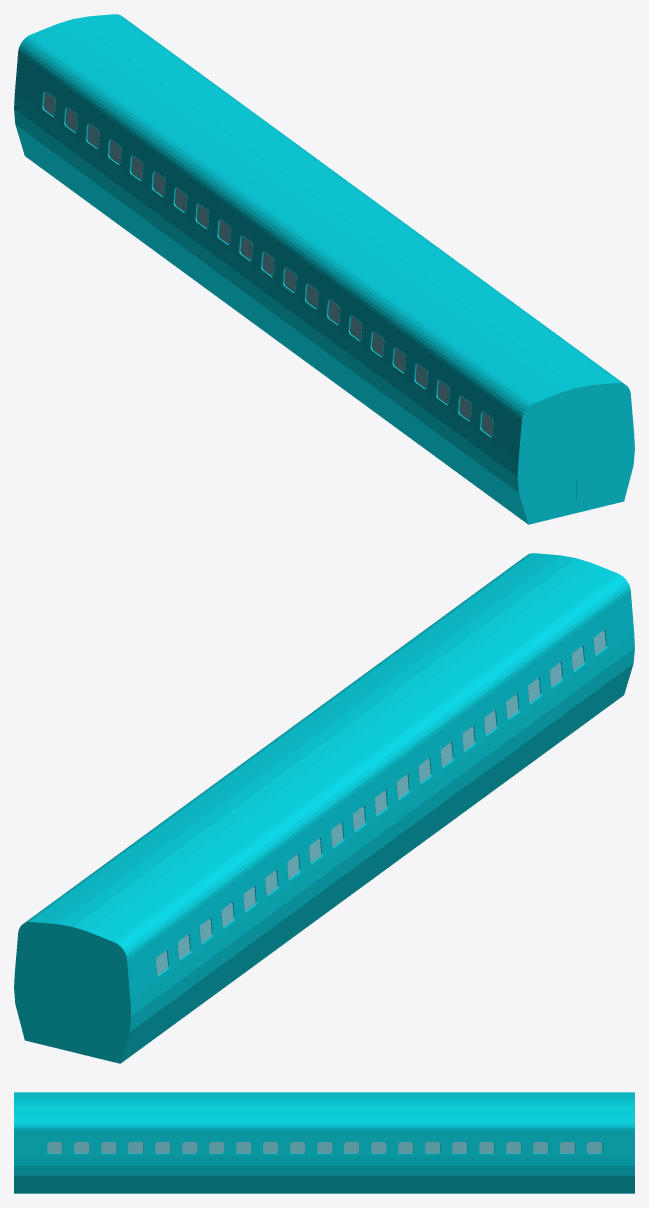
File: sin_2.glb
The picture shows the model from 3 angles, top to bottom: view 1: azimuth 30°, elevation 25°; view 2: azimuth 150°, elevation 25°; view 3: azimuth 270°, elevation 25°; orthographic projection. The views are drawn at different scales.
Visible parts, largest first — view 1: 立方体.032, 立方体.052, 平面.001; view 2: 立方体.032, 立方体.052, 平面.001; view 3: 立方体.052, 立方体.032, 平面.
Part boxes in pixels (box(x1,y1,x2,y2)): 立方体.032: box(14, 19, 576, 524); 立方体.052: box(73, 14, 634, 512); 平面.001: box(43, 91, 493, 436); 立方体.032: box(72, 558, 634, 1063); 立方体.052: box(14, 553, 575, 1051); 平面.001: box(156, 630, 605, 975); 立方体.052: box(14, 1102, 634, 1193); 立方体.032: box(14, 1092, 634, 1101); 平面: box(47, 1142, 601, 1153).
Bounding box in the file's own units: 1.94 × 1.98 × 14.43.
